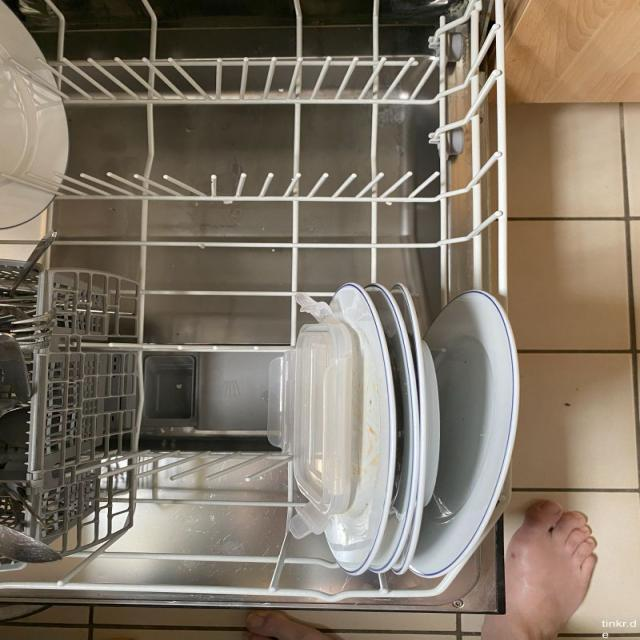empty_slot: (65, 2, 491, 270), (72, 283, 286, 588)
